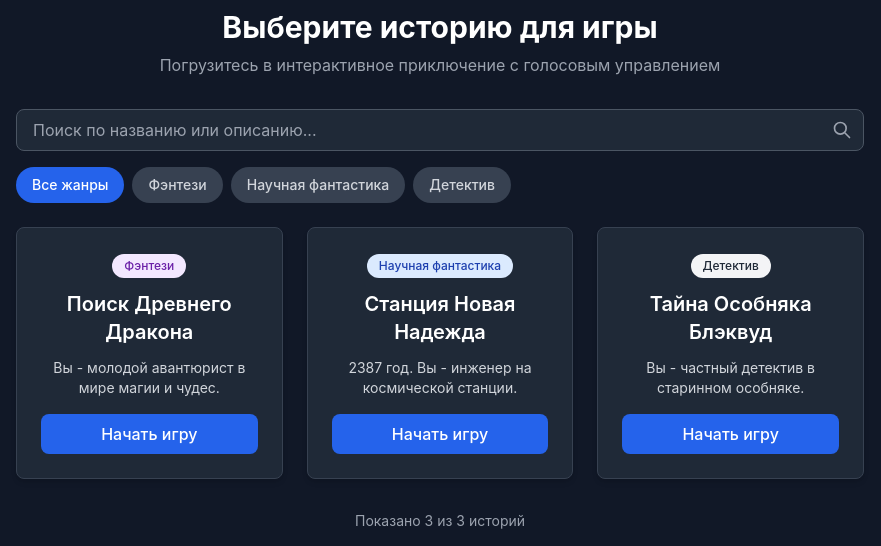
Test case: StorySelector › shows no results message when no stories match filters
Type "несуществующая история" into the field with placeholder "Поиск по названию или описанию..." at (440, 130), box [16, 109, 864, 151]
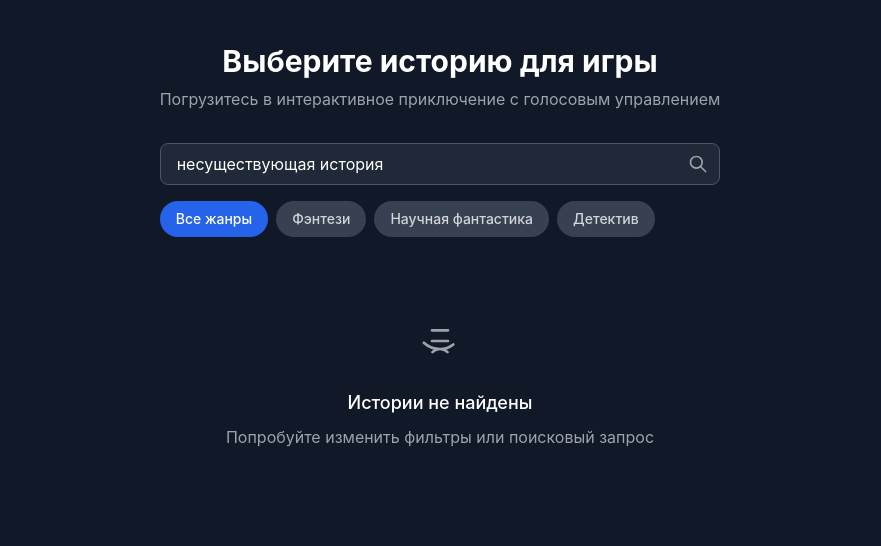
Check: the heading "Истории не найдены" is shown, box [348, 392, 532, 413]
Check: the text "Попробуйте изменить фильтры или поисковый запрос" is shown, box [226, 427, 654, 447]
